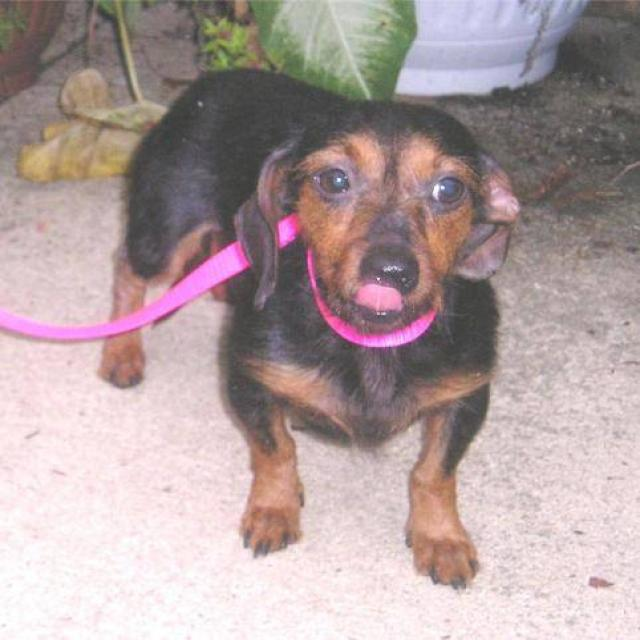dog: (96, 65, 520, 590)
